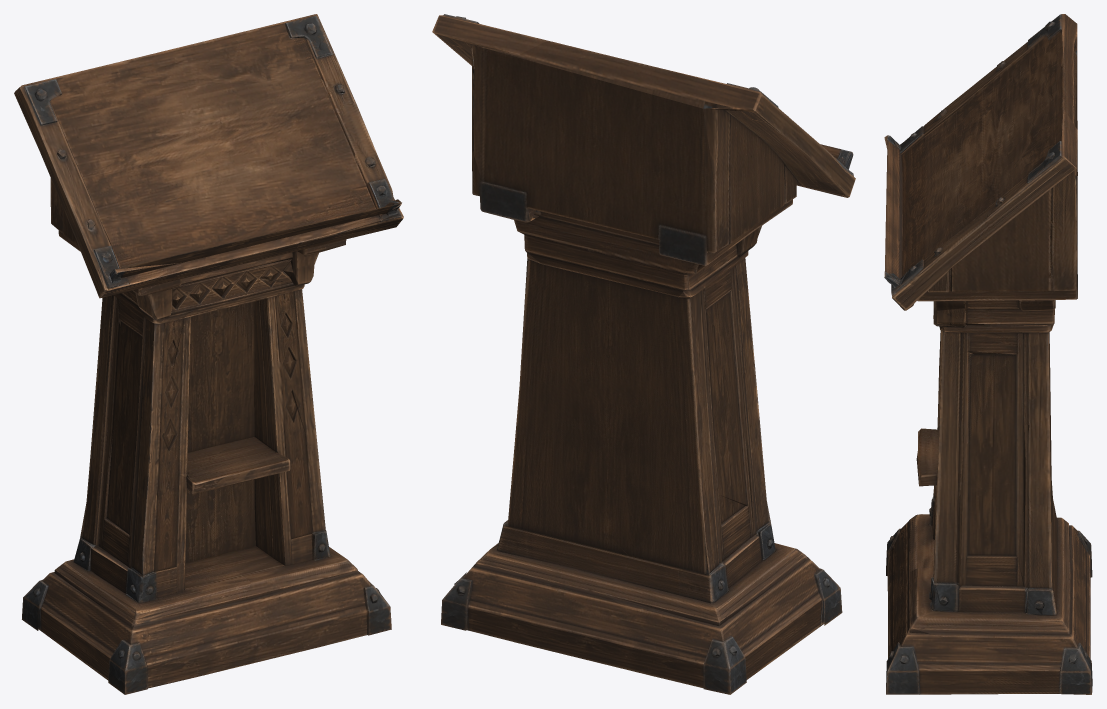
The model's file is lectern.glb.
3 views of the same model, side by side, from view 1: azimuth 30°, elevation 25°; view 2: azimuth 150°, elevation 25°; view 3: azimuth 270°, elevation 25° (orthographic). The views are drawn at different scales.
Parts seen in each view (by area): view 1: output_unwrapped; view 2: output_unwrapped; view 3: output_unwrapped.
Boxes of the visible parts, <box> form: output_unwrapped: <box>14,14,403,694</box>; output_unwrapped: <box>432,14,855,694</box>; output_unwrapped: <box>884,14,1092,694</box>.
Bounding box in the file's own units: 1.09 × 1.9 × 0.6574.
1 material, 1 textured.
